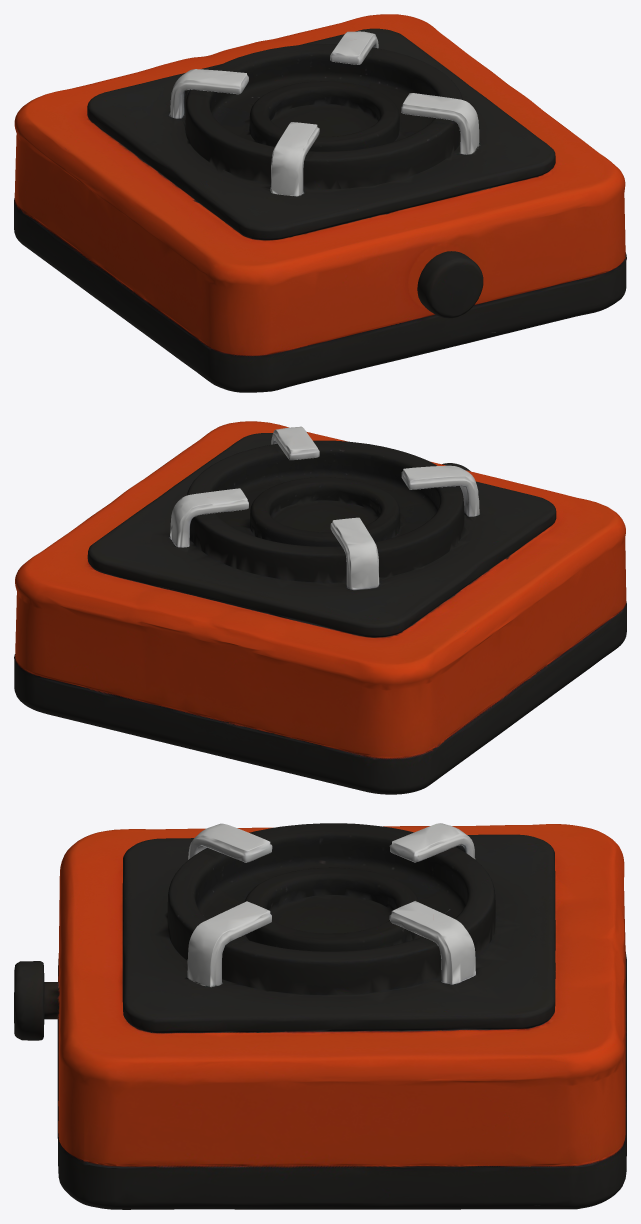
The model's file is hornilla.glb.
3 views of the same model, one above another, from view 1: azimuth 30°, elevation 25°; view 2: azimuth 150°, elevation 25°; view 3: azimuth 270°, elevation 25° (orthographic). The views are drawn at different scales.
Parts seen in each view (by area): view 1: tripo_node_b49e9879-c8ab-4abf-832e-a5401360ff97; view 2: tripo_node_b49e9879-c8ab-4abf-832e-a5401360ff97; view 3: tripo_node_b49e9879-c8ab-4abf-832e-a5401360ff97.
Part boxes in pixels (x1,y1,x2,y2): tripo_node_b49e9879-c8ab-4abf-832e-a5401360ff97: [14, 14, 626, 392]; tripo_node_b49e9879-c8ab-4abf-832e-a5401360ff97: [14, 421, 626, 794]; tripo_node_b49e9879-c8ab-4abf-832e-a5401360ff97: [14, 823, 626, 1209].
Size of the model in its own units: 0.9156 by 0.3913 by 0.9803.
1 material, 1 textured.
